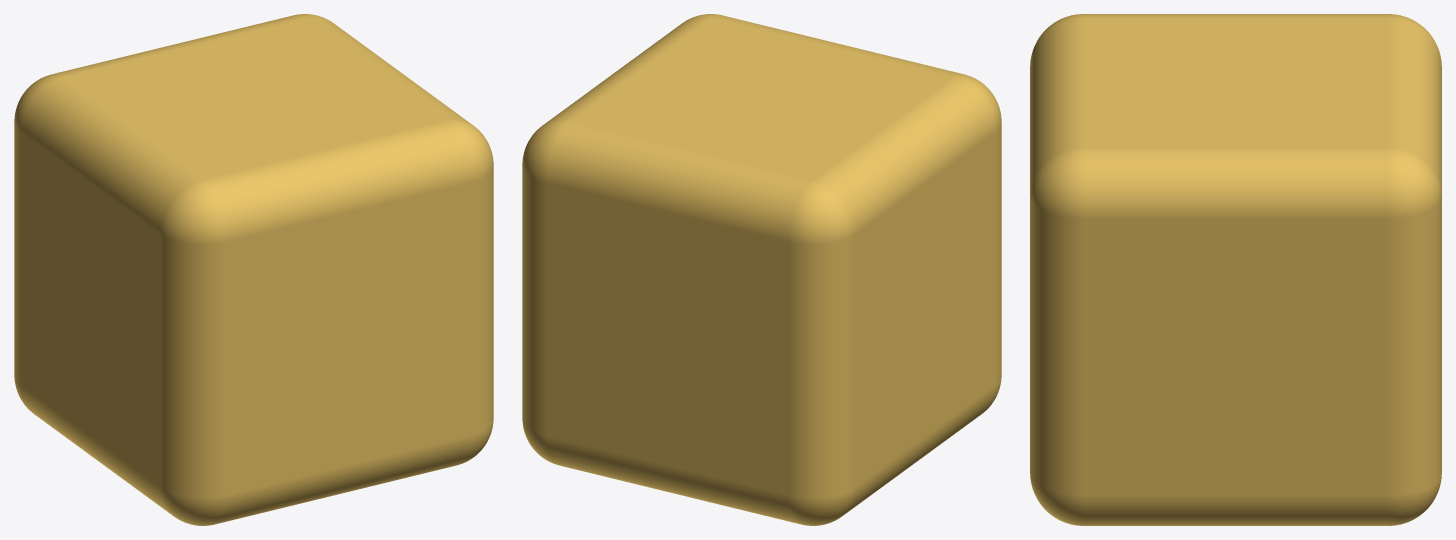
The model's file is Head.glb.
The picture shows the model from 3 angles, left to right: view 1: azimuth 30°, elevation 25°; view 2: azimuth 150°, elevation 25°; view 3: azimuth 270°, elevation 25°; orthographic projection. The views are drawn at different scales.
Parts seen in each view (by area): view 1: Cube; view 2: Cube; view 3: Cube.
Boxes of the visible parts, <box> form: Cube: <box>14,14,493,525</box>; Cube: <box>522,14,1001,525</box>; Cube: <box>1030,14,1441,525</box>.
Bounding box in the file's own units: 2 × 2 × 2.
